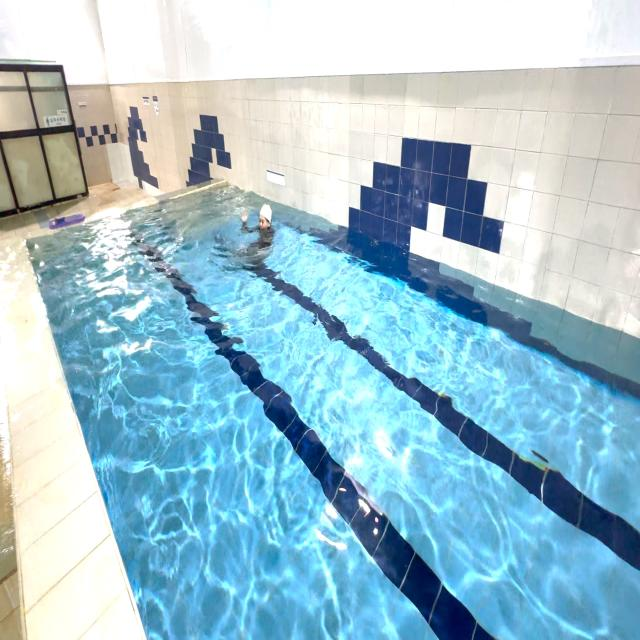Drowning: (231, 195, 276, 267)
